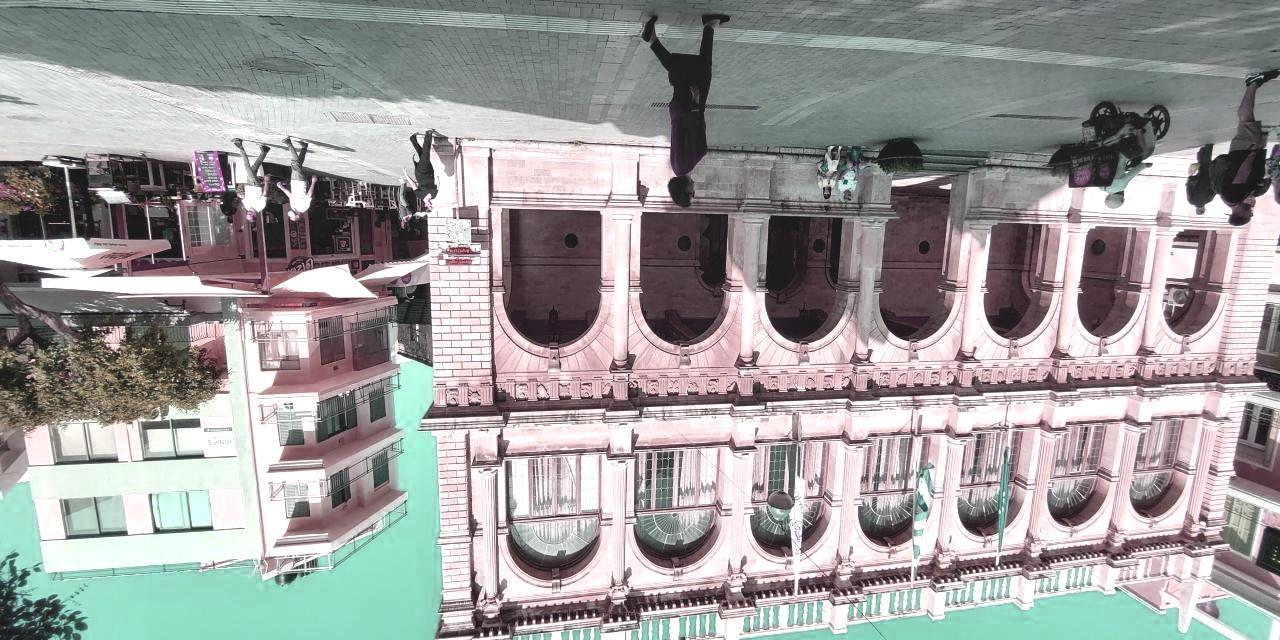Loggia: (413, 137, 1280, 640)
